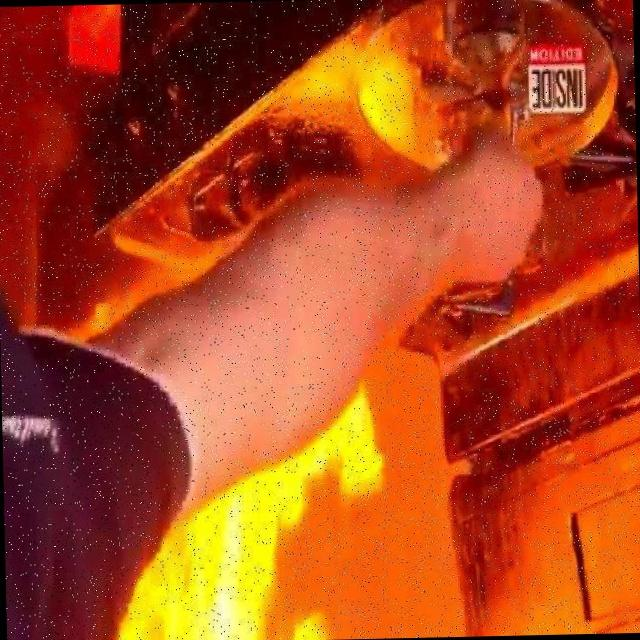fire: (114, 410, 386, 640), (300, 8, 474, 206)
